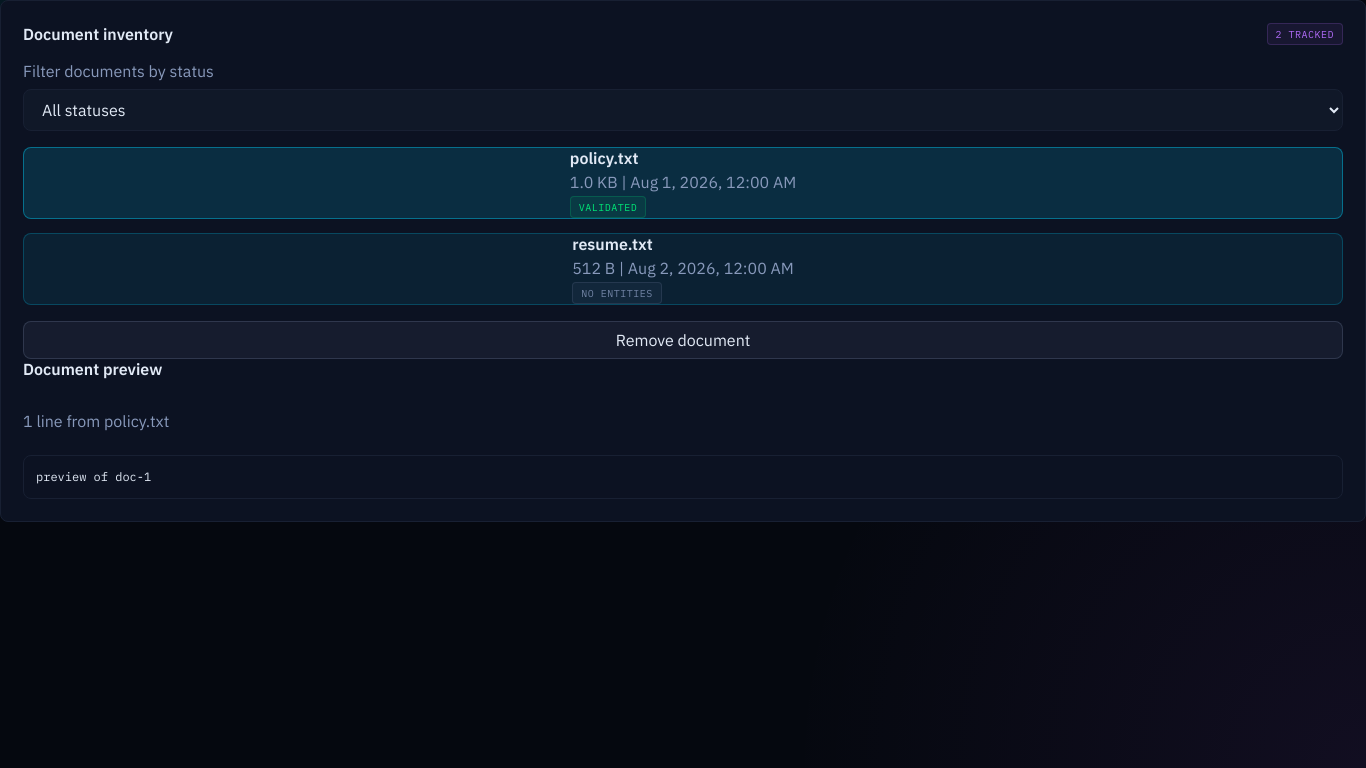
DataSection › leaves a document in place when its removal is cancelled
Expected: the text "policy.txt" is shown, [570,148,638,168]
Click the button "Remove document": (683, 340) [23,321,1343,359]
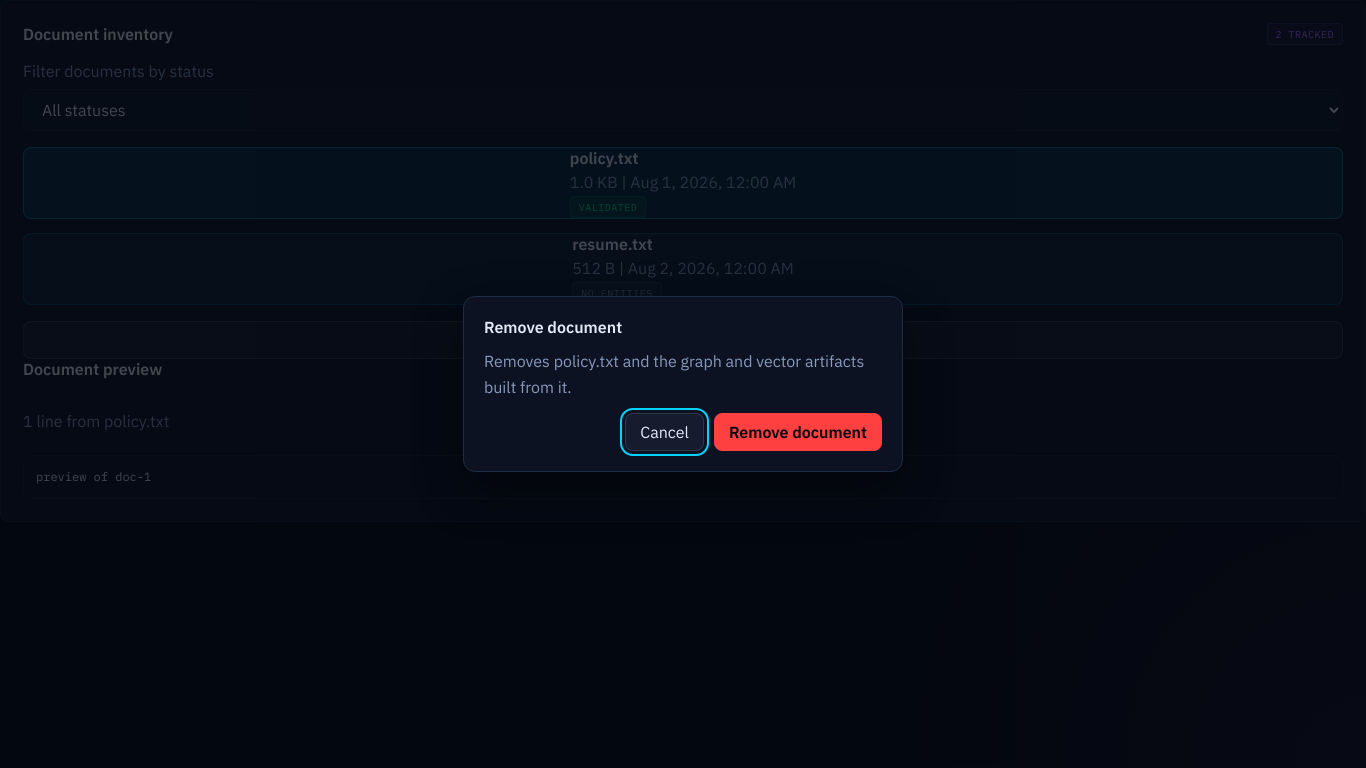
Click the button "Cancel": (665, 432) [625,413,704,451]
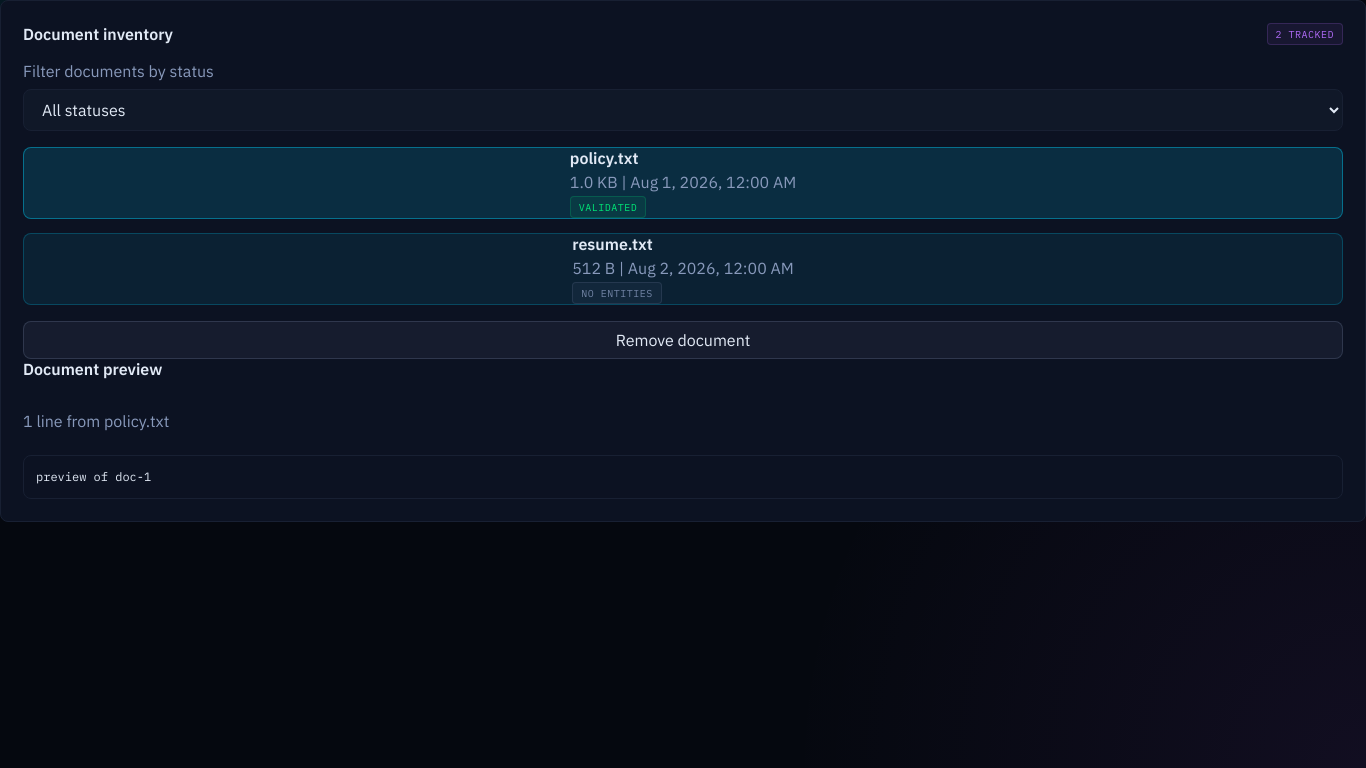
Expected: the text "policy.txt" is shown, [570,148,638,168]
Now the dialog is gone
